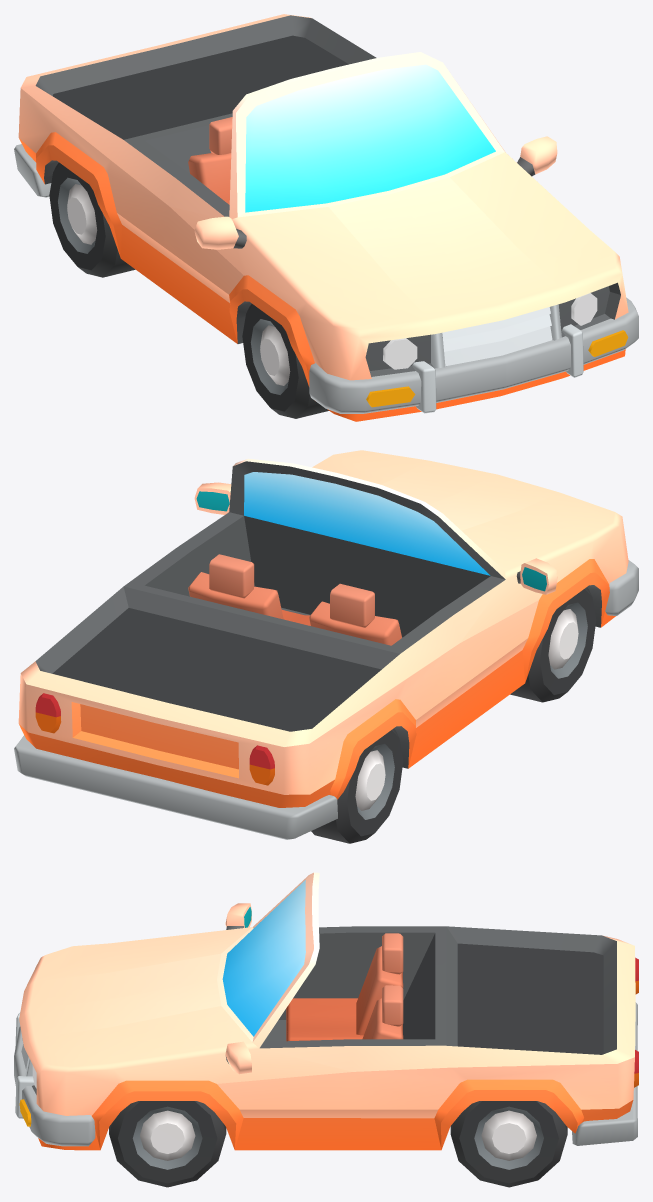
Rendered from Car_18.glb.
3 views of the same model, one above another, from view 1: azimuth 30°, elevation 25°; view 2: azimuth 150°, elevation 25°; view 3: azimuth 270°, elevation 25° (orthographic). The views are drawn at different scales.
Parts seen in each view (by area): view 1: Car_18, Wheel_114, Wheel_113; view 2: Car_18, Wheel_114, Wheel_113; view 3: Car_18, Wheel_115, Wheel_116.
Part boxes in pixels (<box>): Car_18: <box>14,14,638,421</box>; Wheel_114: <box>49,162,135,277</box>; Wheel_113: <box>242,304,328,418</box>; Car_18: <box>14,450,638,839</box>; Wheel_114: <box>311,728,403,843</box>; Wheel_113: <box>510,587,596,702</box>; Car_18: <box>14,872,638,1150</box>; Wheel_115: <box>109,1101,226,1187</box>; Wheel_116: <box>450,1101,567,1187</box>.
Size of the model in its own units: 2.65 by 1.77 by 4.53.
2 materials, 2 textured.
